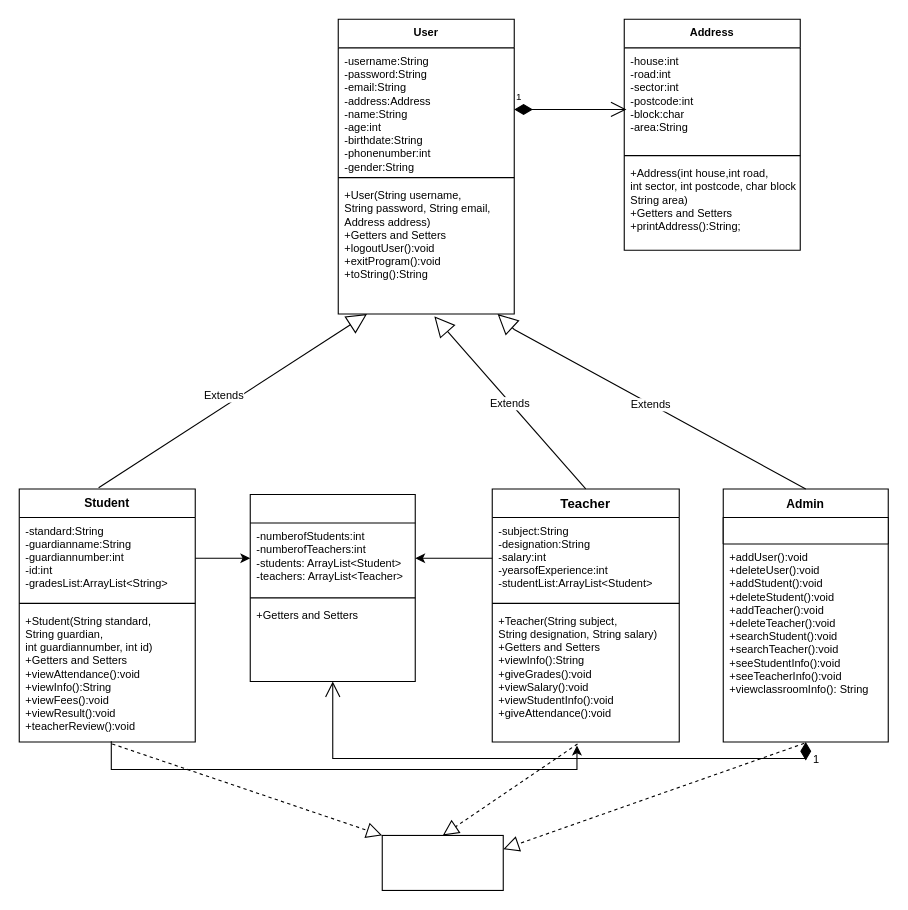
Image size: 908x910. Some labels were removed from this diagram. Here are the shapes that lost their labels. From the top down, the box of each, then its label:
(722, 516, 888, 544): -classroom: Classroom
(249, 493, 415, 681): Classroom
(381, 834, 503, 890): «interface» Serialization and Reserialization
